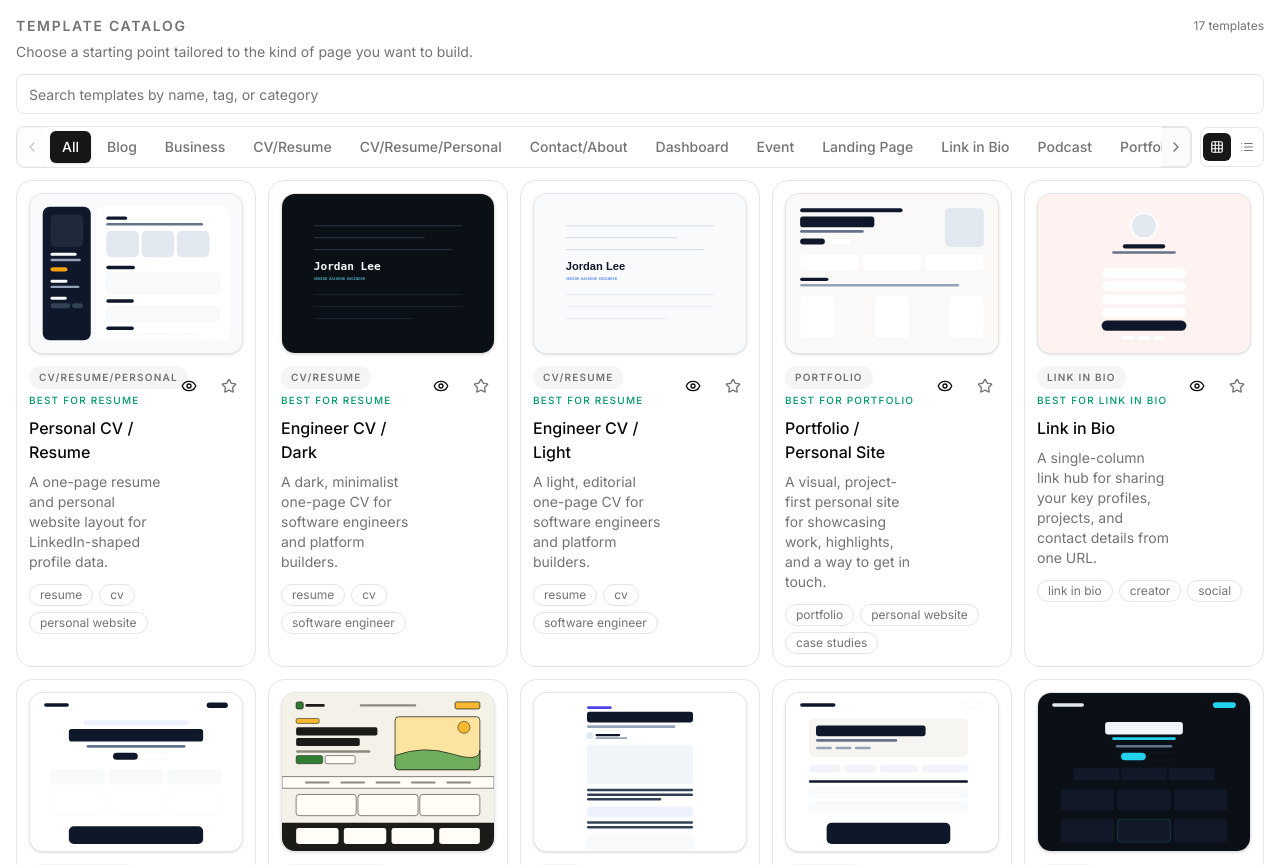
it: TemplateCatalog › favorites a template, lists it under Favorites, and falls back to All when the last favorite is removed
Expected: the tab "Favorites" is not shown
Click the 1st button named "Add to favorites": {"x": 229, "y": 386} [215,372,243,400]
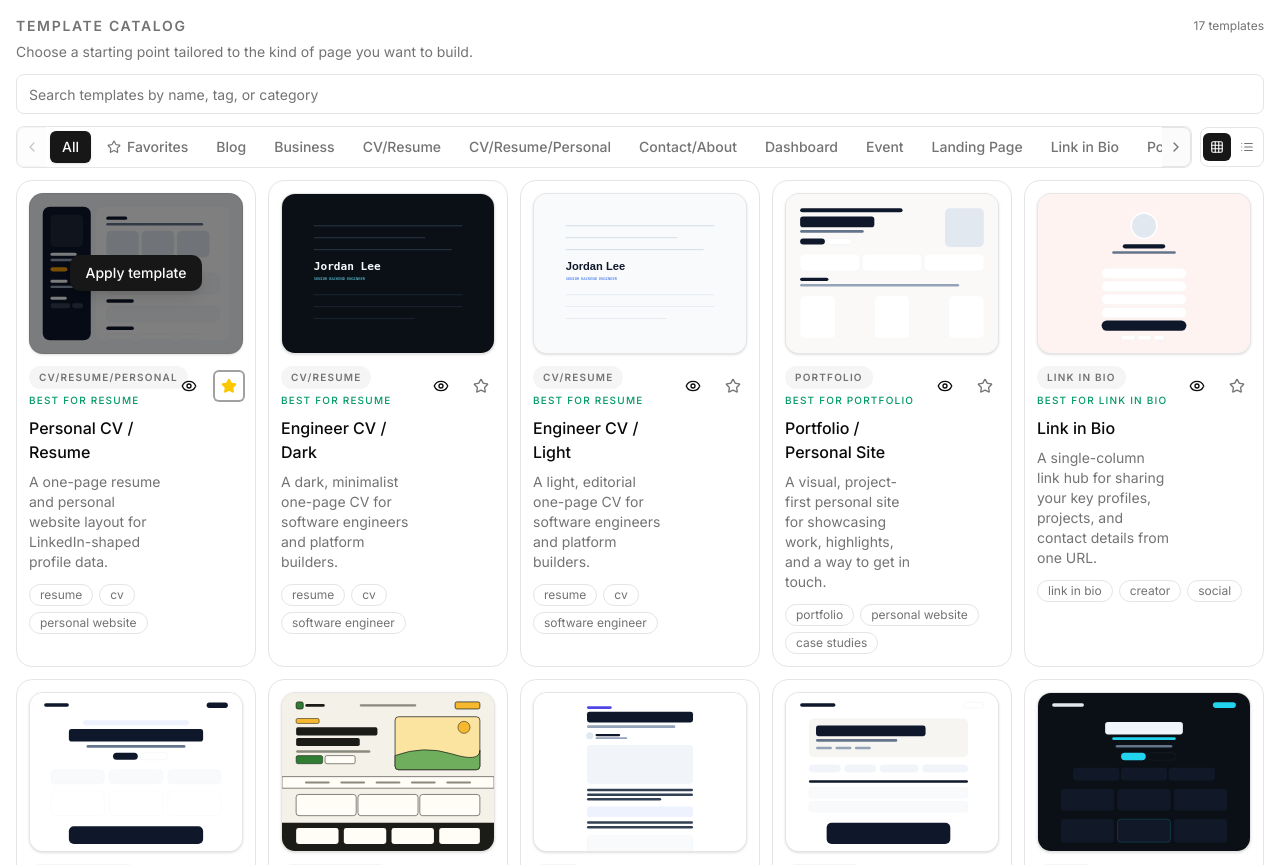
Click the tab "Favorites": {"x": 148, "y": 147} [95,131,200,163]
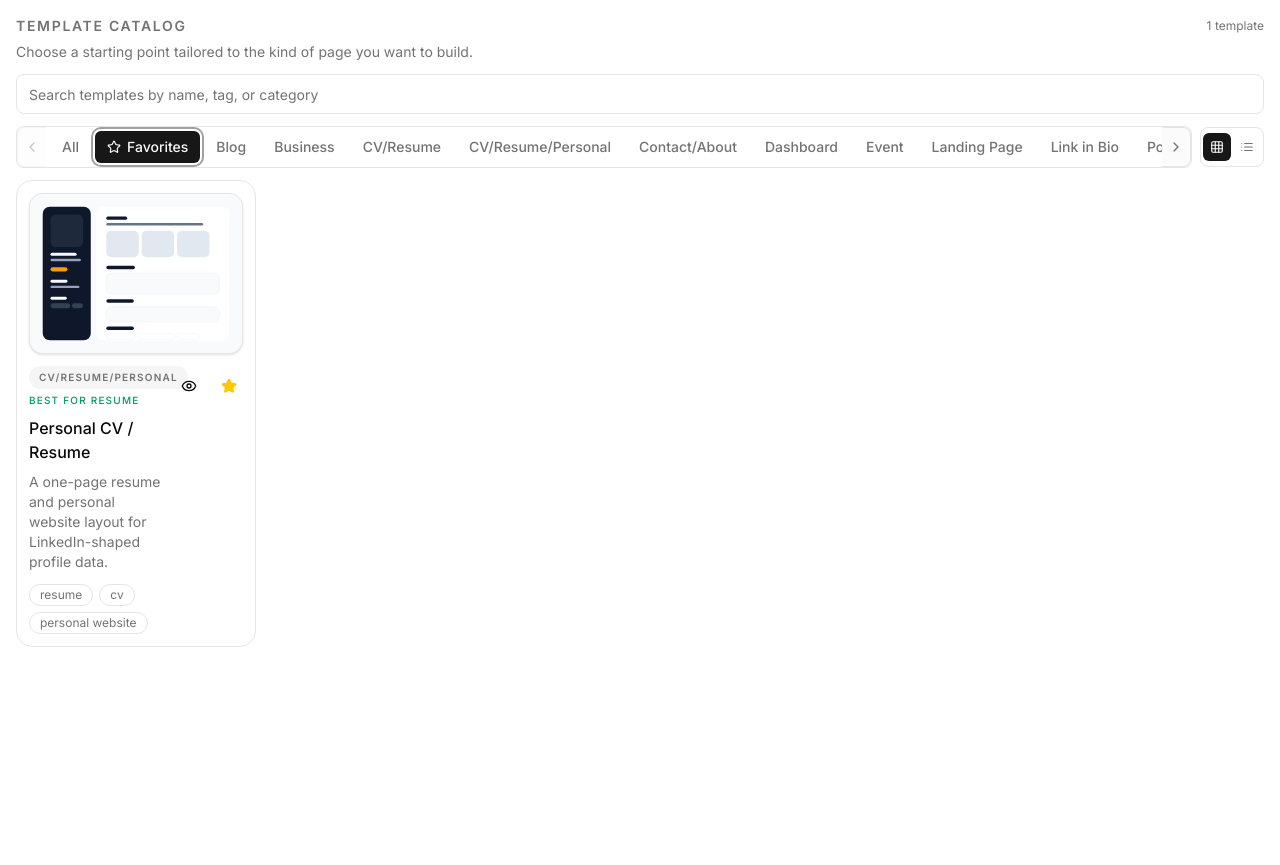
Result: the number of buttons named "Apply Personal CV / Resume template" is 1 at [17,181,255,646]
Click the button named "Remove from favorites": {"x": 229, "y": 386} [215,372,243,400]
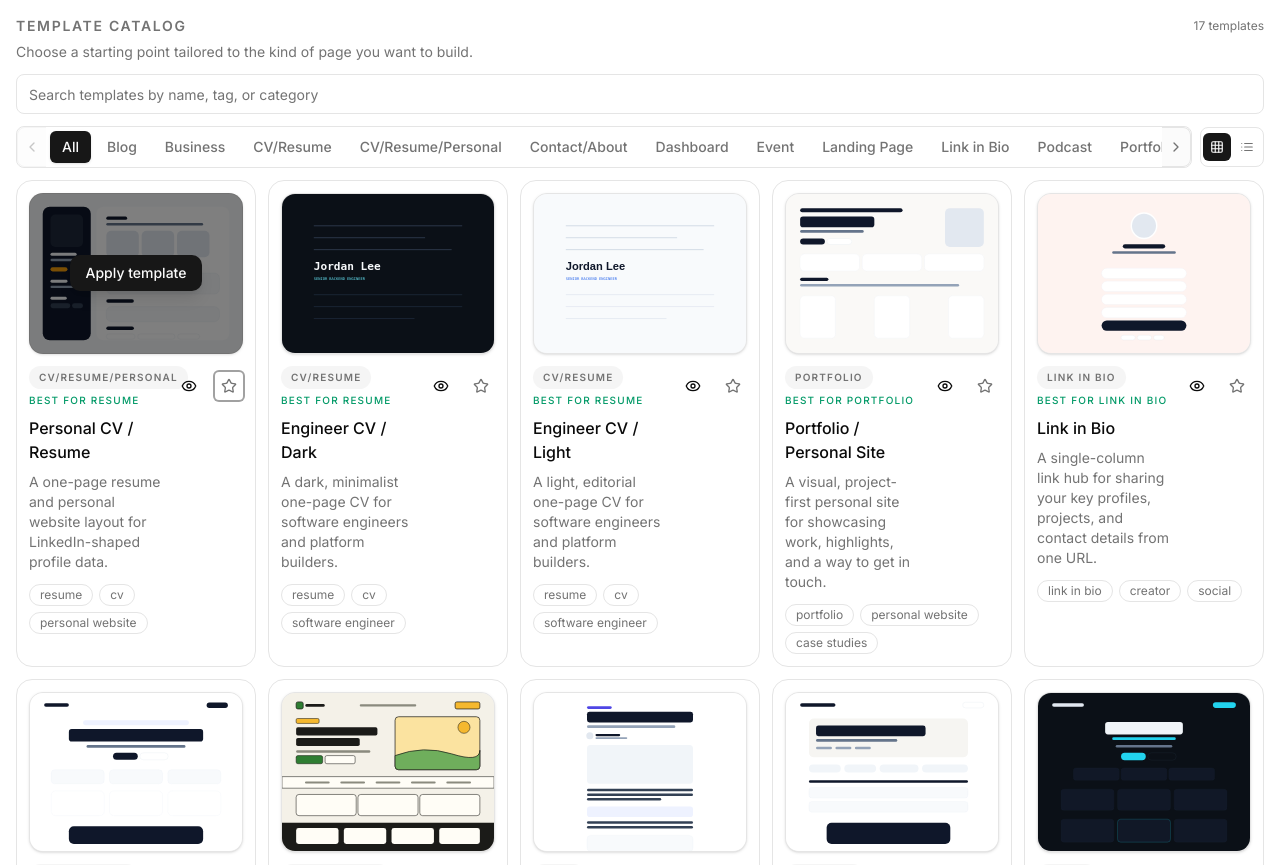
Result: the tab "Favorites" is gone
Result: the number of buttons named "Apply Personal CV / Resume template" is 17
